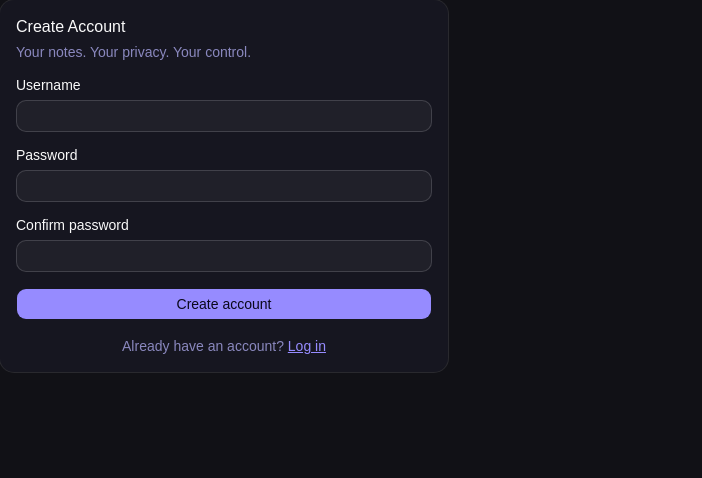
Test: RegisterPage › shows validation error for short password
The image size is (702, 478).
Type "testuser" into the field labelled "Username".
click(224, 116); type("testuser")  # box [16,100,432,132]
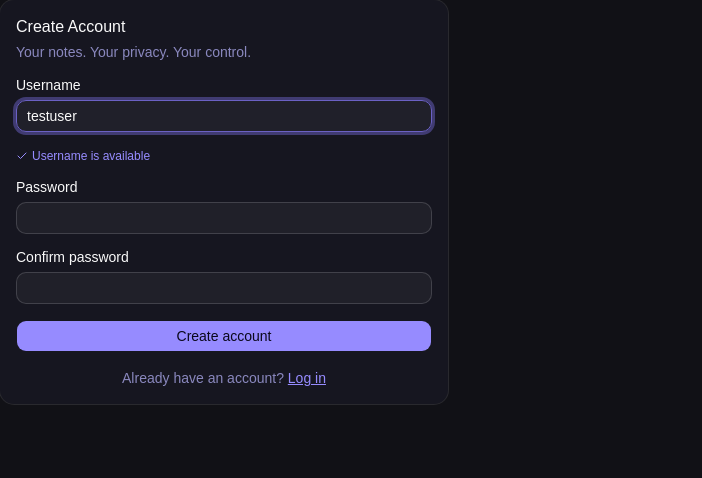
Expected: the text "Username is available" is shown, [16,149,150,163]
Type "short" into the password field labelled "Password".
click(224, 218); type("short")  # box [16,202,432,234]
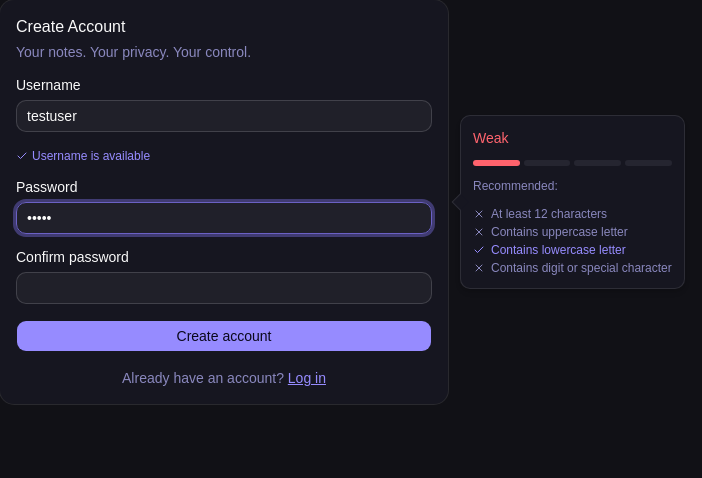
Click the button "Create account".
click(224, 336)  # box [16,320,432,352]
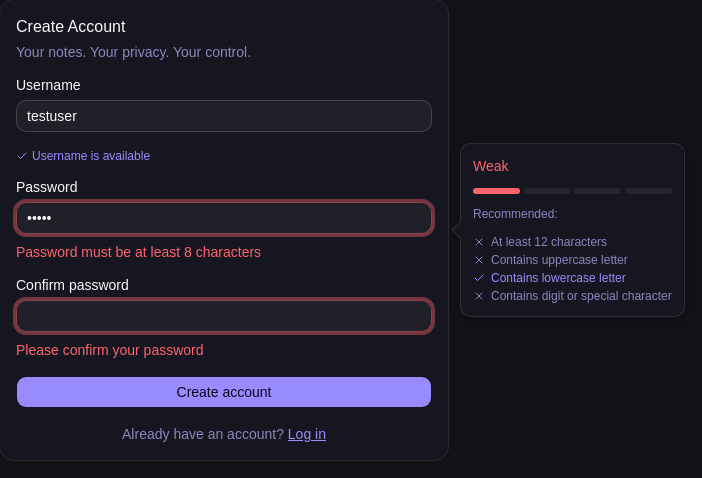
Expected: the text "Password must be at least 8 characters" is shown, [16,244,261,260]
